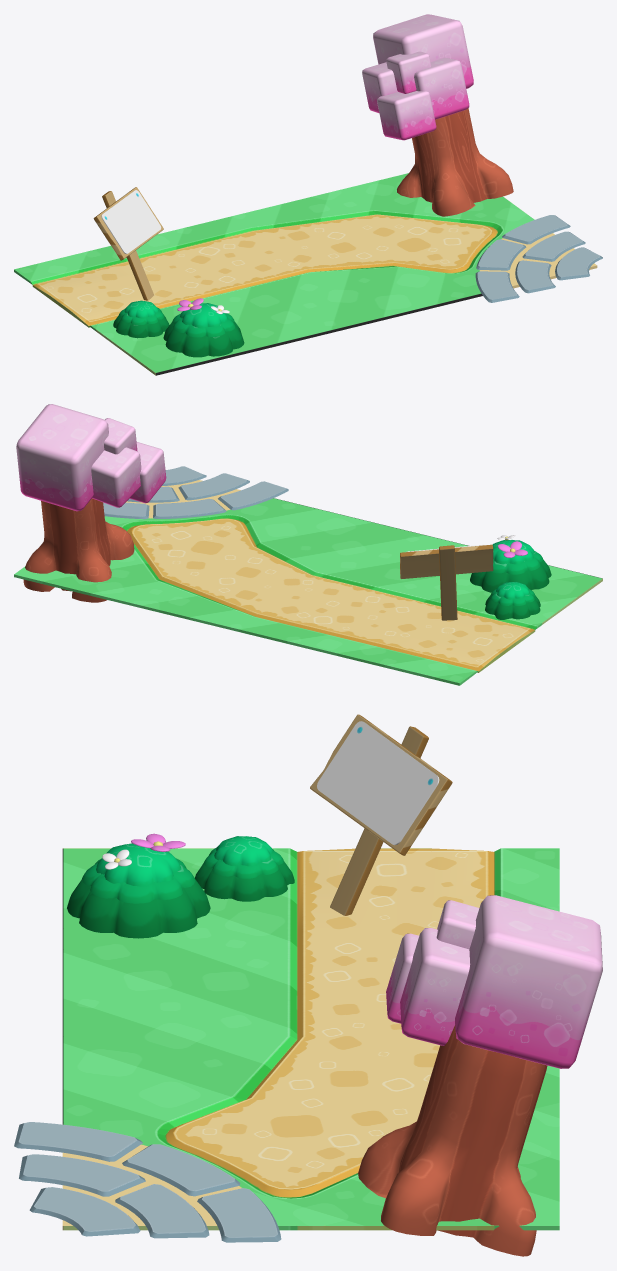
File: S1_OutF_FieldAll_001.fbx
3 views of the same model, one above another, from view 1: azimuth 30°, elevation 25°; view 2: azimuth 150°, elevation 25°; view 3: azimuth 270°, elevation 25° (orthographic). The views are drawn at different scales.
Parts seen in each view (by area): view 1: group147_group127_pCube153; view 2: group147_group127_pCube153; view 3: group147_group127_pCube153.
Boxes of the visible parts, left/top/right/bottom form: group147_group127_pCube153: left=14, top=14, right=602, bottom=375; group147_group127_pCube153: left=14, top=404, right=602, bottom=685; group147_group127_pCube153: left=14, top=714, right=602, bottom=1256.
Bounding box in the file's own units: 14.22 × 5.3 × 8.97.
